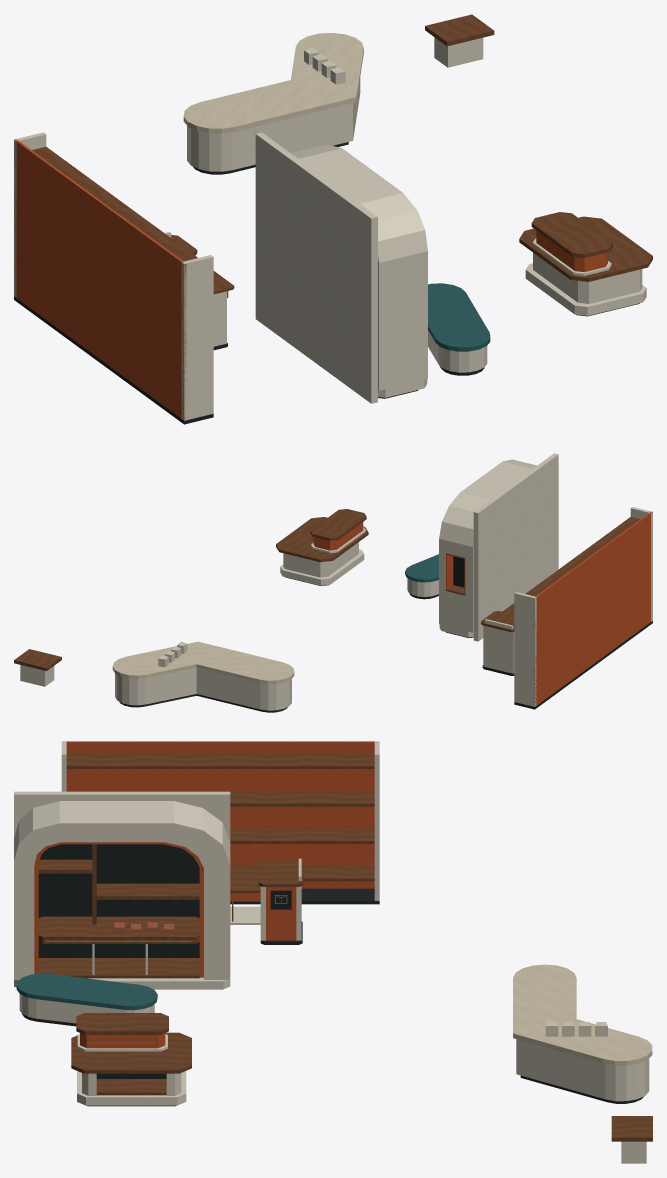
File: SHOP_D09_P100_A314__fitout.glb
The picture shows the model from 3 angles, top to bottom: view 1: azimuth 30°, elevation 25°; view 2: azimuth 150°, elevation 25°; view 3: azimuth 270°, elevation 25°; orthographic projection. The views are drawn at different scales.
Parts seen in each view (by area): view 1: SHOP_D09_P100_A314__fitout__ivory_enamel, SHOP_D09_P100_A314__fitout__retail_terracotta_enamel, SHOP_D09_P100_A314__fitout__warm_walnut, SHOP_D09_P100_A314__fitout__warm_stone, SHOP_D09_P100_A314__fitout__teal_weave, SHOP_D09_P100_A314__fitout__dark_rubber; view 2: SHOP_D09_P100_A314__fitout__ivory_enamel, SHOP_D09_P100_A314__fitout__retail_terracotta_enamel, SHOP_D09_P100_A314__fitout__warm_walnut, SHOP_D09_P100_A314__fitout__warm_stone, SHOP_D09_P100_A314__fitout__dark_rubber, SHOP_D09_P100_A314__fitout__teal_weave; view 3: SHOP_D09_P100_A314__fitout__ivory_enamel, SHOP_D09_P100_A314__fitout__warm_walnut, SHOP_D09_P100_A314__fitout__retail_terracotta_enamel, SHOP_D09_P100_A314__fitout__dark_rubber, SHOP_D09_P100_A314__fitout__warm_stone, SHOP_D09_P100_A314__fitout__teal_weave.
Part boxes in pixels (x1,y1,x2,y2): SHOP_D09_P100_A314__fitout__ivory_enamel: [14, 37, 646, 420]; SHOP_D09_P100_A314__fitout__retail_terracotta_enamel: [14, 139, 607, 420]; SHOP_D09_P100_A314__fitout__warm_walnut: [32, 14, 652, 294]; SHOP_D09_P100_A314__fitout__warm_stone: [183, 33, 363, 133]; SHOP_D09_P100_A314__fitout__teal_weave: [428, 283, 490, 351]; SHOP_D09_P100_A314__fitout__dark_rubber: [14, 142, 639, 424]; SHOP_D09_P100_A314__fitout__ivory_enamel: [20, 453, 652, 710]; SHOP_D09_P100_A314__fitout__retail_terracotta_enamel: [313, 511, 652, 706]; SHOP_D09_P100_A314__fitout__warm_walnut: [14, 509, 640, 670]; SHOP_D09_P100_A314__fitout__warm_stone: [112, 641, 294, 684]; SHOP_D09_P100_A314__fitout__dark_rubber: [119, 556, 652, 712]; SHOP_D09_P100_A314__fitout__teal_weave: [405, 554, 438, 582]; SHOP_D09_P100_A314__fitout__ivory_enamel: [14, 741, 649, 1163]; SHOP_D09_P100_A314__fitout__warm_walnut: [38, 753, 652, 1141]; SHOP_D09_P100_A314__fitout__retail_terracotta_enamel: [34, 741, 378, 1048]; SHOP_D09_P100_A314__fitout__dark_rubber: [22, 844, 643, 1106]; SHOP_D09_P100_A314__fitout__warm_stone: [513, 964, 652, 1065]; SHOP_D09_P100_A314__fitout__teal_weave: [16, 973, 157, 1010].
Bounding box in the file's own units: 10.25 × 3 × 10.05.
Materials: 8 (8 with a texture image).
